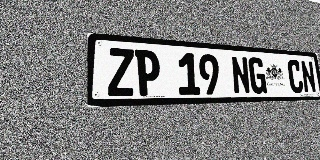1: (177, 52, 200, 95)
9: (198, 54, 221, 95)
C: (287, 60, 304, 93)
G: (248, 57, 267, 94)
N: (231, 56, 251, 94), (300, 60, 317, 93)
P: (135, 49, 161, 96)
Z: (107, 48, 135, 96)
